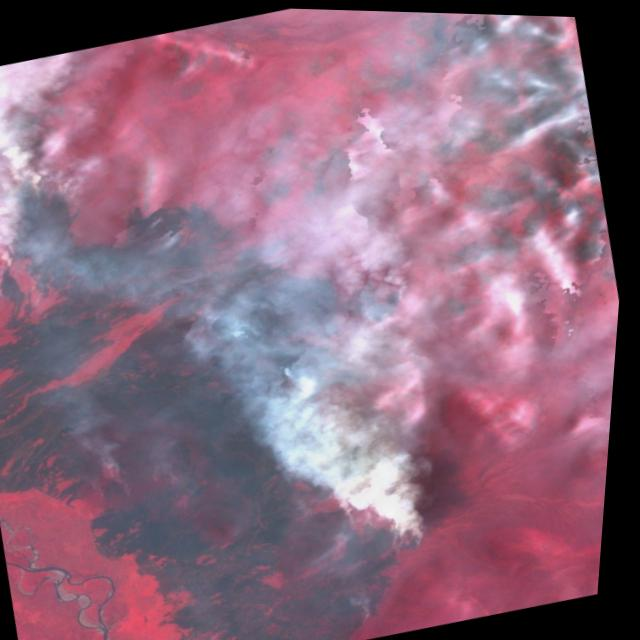fire: (256, 245, 501, 640), (0, 119, 118, 303)
